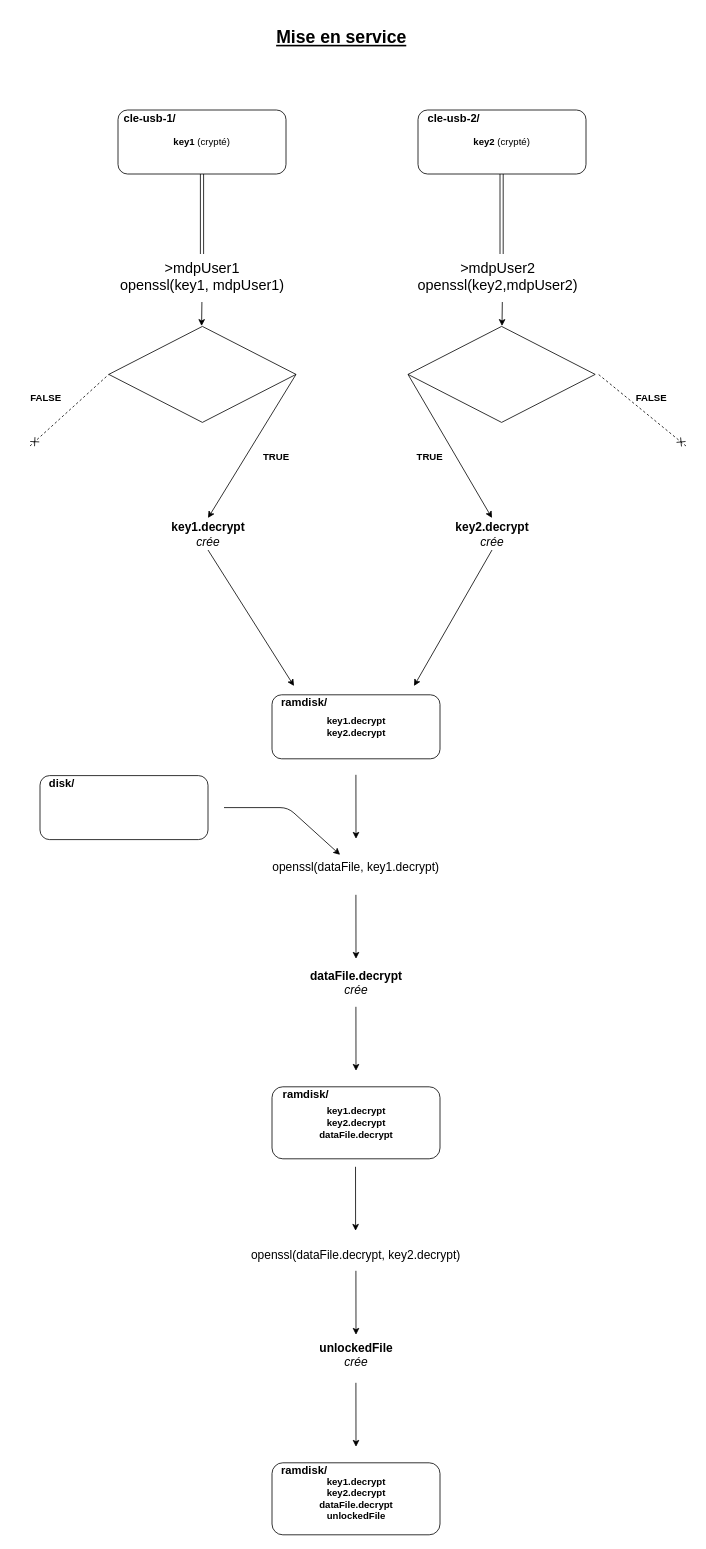
Some shapes in this 706 by 1549 pixel diagram are drawn without their labels. The box of each missing label's shape, as (x1, y1, x2, y2) in pixels:
dataFile (crypté): (39, 775, 208, 840)
if hash( mdpUser1 ) == openssl(key1,mdpUser1): (108, 326, 296, 422)
if hash( mdpUser2 ) == openssl(key2,mdpUser2): (407, 326, 595, 422)
